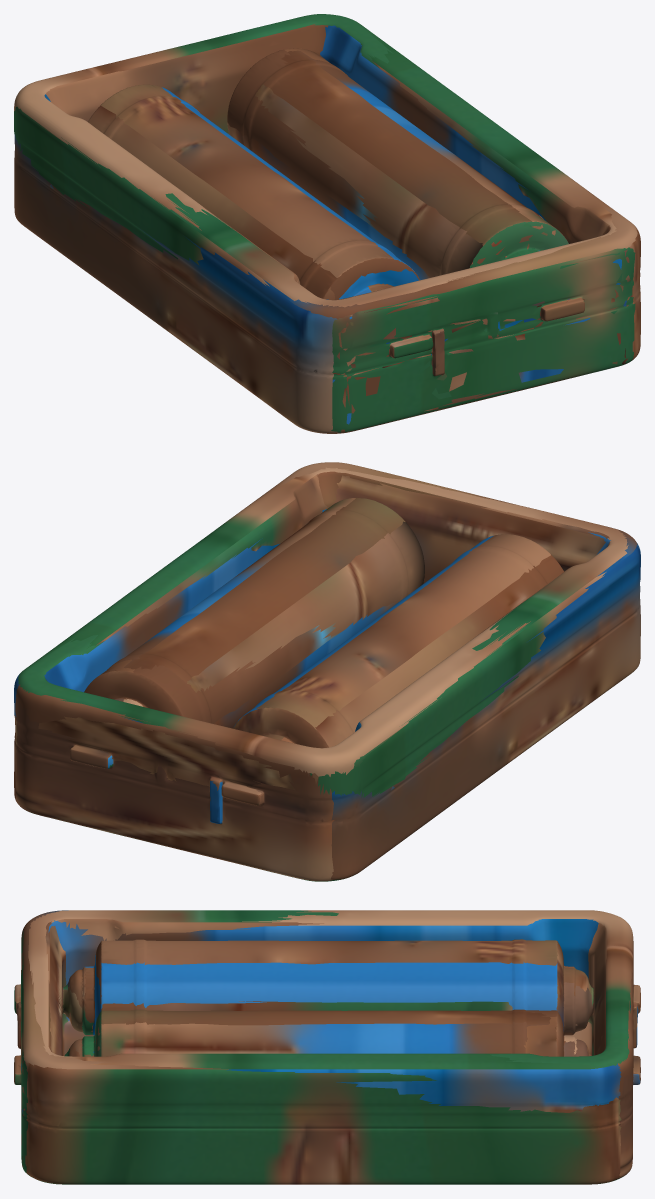
File: batterry.obj
3 views of the same model, one above another, from view 1: azimuth 30°, elevation 25°; view 2: azimuth 150°, elevation 25°; view 3: azimuth 270°, elevation 25° (orthographic). The views are drawn at different scales.
Parts seen in each view (by area): view 1: node_0.005; view 2: node_0.005; view 3: node_0.005.
Boxes of the visible parts, x1,y1,x2,y2 form: node_0.005: [14, 14, 640, 433]; node_0.005: [14, 462, 640, 881]; node_0.005: [14, 910, 640, 1184].
Size of the model in its own units: 0.1996 by 0.0727 by 0.3278.
